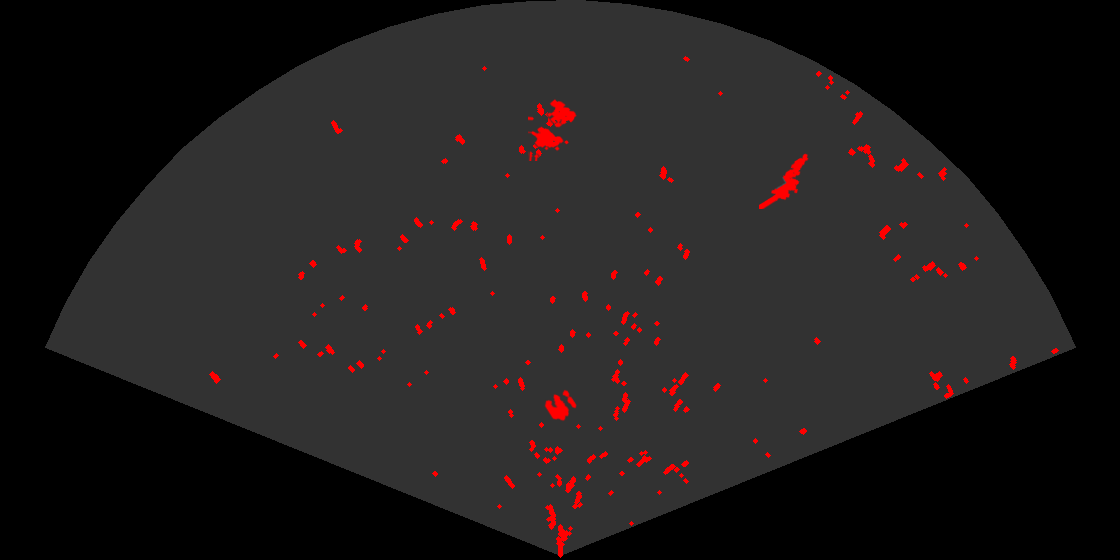ball: (543, 388, 578, 423)
cage: (528, 97, 578, 161)
frogman: (759, 152, 810, 209)
